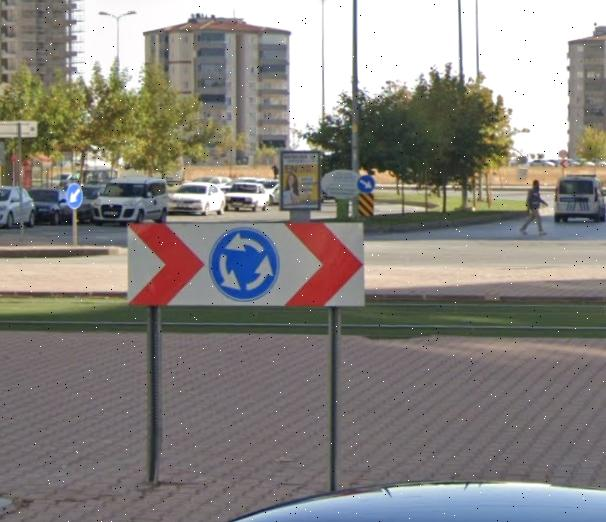crossroads: (208, 222, 283, 301)
